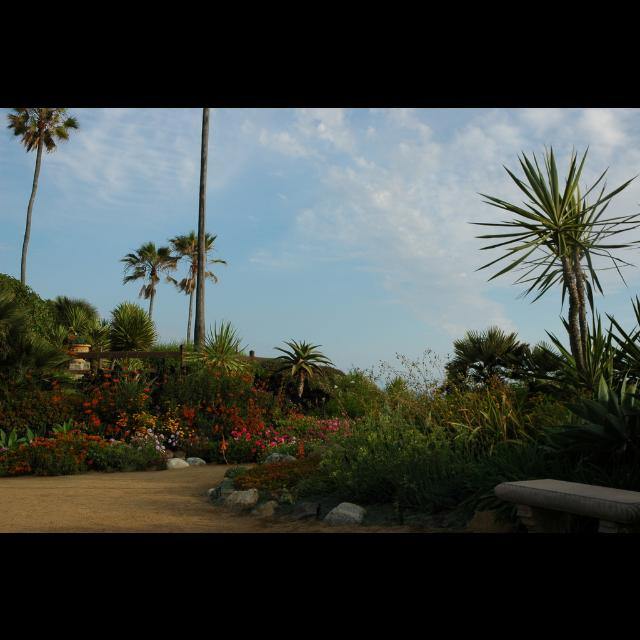Flower: (0, 356, 360, 462), (272, 438, 284, 448), (66, 348, 76, 354), (67, 333, 73, 339), (8, 470, 16, 474), (23, 465, 31, 469), (4, 464, 8, 470), (16, 465, 20, 471)
